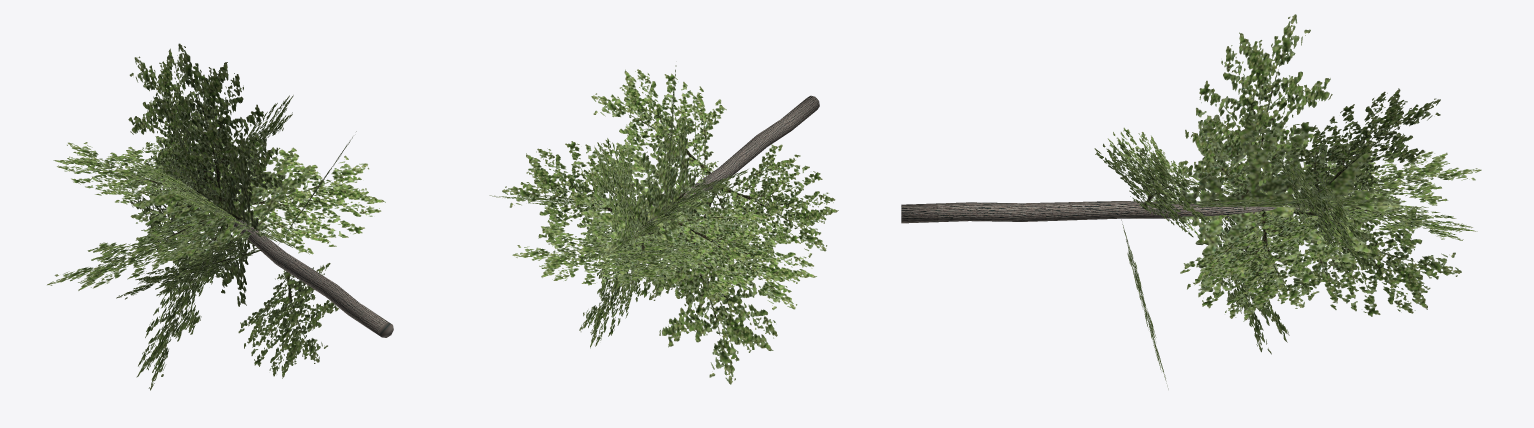
File: psx tree 1.fbx
3 views of the same model, side by side, from view 1: azimuth 30°, elevation 25°; view 2: azimuth 150°, elevation 25°; view 3: azimuth 270°, elevation 25° (orthographic). The views are drawn at different scales.
Parts seen in each view (by area): view 1: psxTree_256; view 2: psxTree_256; view 3: psxTree_256.
Part boxes in pixels (x1,y1,x2,y2): psxTree_256: (47,43,393,390); psxTree_256: (489,65,838,384); psxTree_256: (901,14,1481,389).
Bounding box in the file's own units: 47.84 × 48.01 × 64.7.
